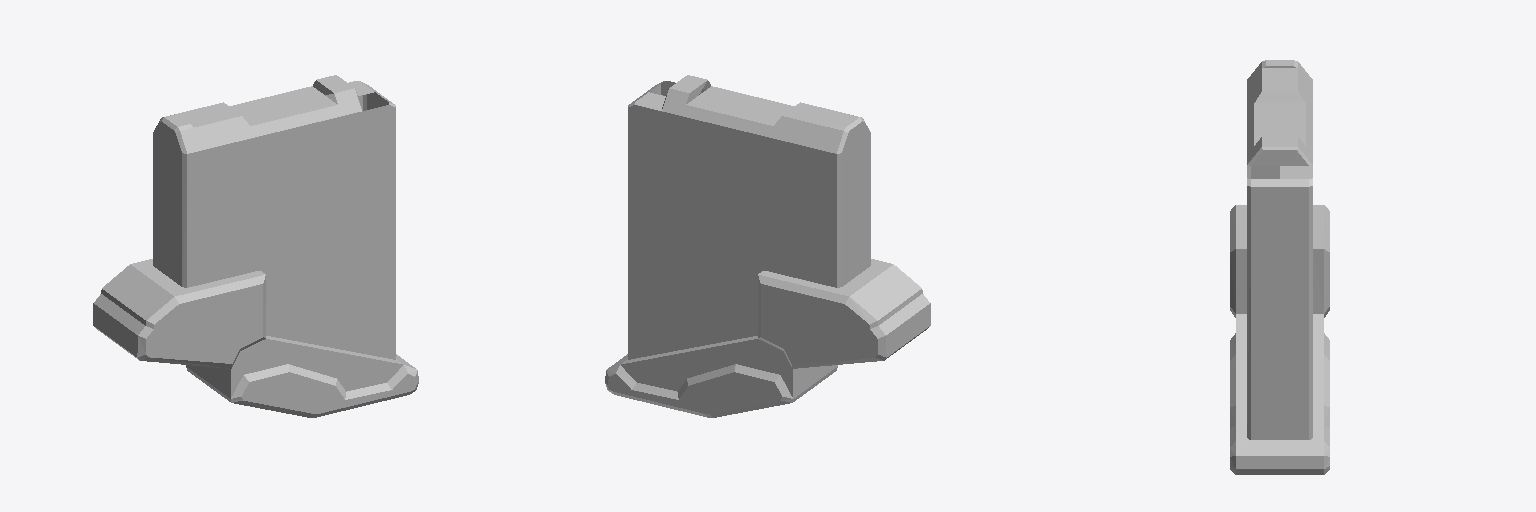
The model's file is AR_Mag.obj.
3 renders of one model, left to right at view 1: azimuth 30°, elevation 25°; view 2: azimuth 150°, elevation 25°; view 3: azimuth 270°, elevation 25°, orthographic.
Visible parts, largest first — view 1: ungrouped; view 2: ungrouped; view 3: ungrouped.
Boxes of the visible parts, <box> form: ungrouped: <box>93,75,418,417</box>; ungrouped: <box>605,75,930,417</box>; ungrouped: <box>1230,60,1329,474</box>.
Bounding box in the file's own units: 0.14 × 0.1469 × 0.0431.